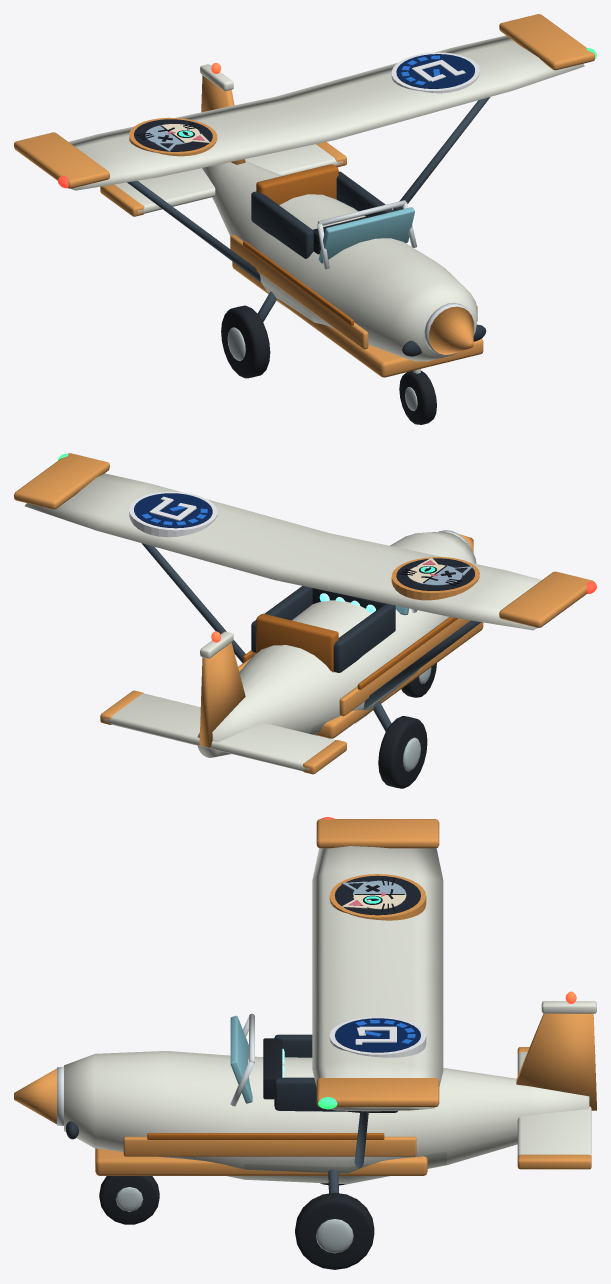
The model's file is avita_plane.glb.
The picture shows the model from 3 angles, top to bottom: view 1: azimuth 30°, elevation 25°; view 2: azimuth 150°, elevation 25°; view 3: azimuth 270°, elevation 25°; orthographic projection. The views are drawn at different scales.
Parts seen in each view (by area): view 1: HighWing, Fuselage, TailPlane, WingTip_1, WingTip_-1, BellyStripe, WindscreenGlass, MainTire_-1, CockpitCoaming_-1, SideLivery_-1, CockpitSeatBack, SpinnerCone (+12 smaller); view 2: HighWing, Fuselage, TailPlane, VerticalFin, WingTip_1, WingTip_-1, CockpitSeatBack, MainTire_-1, CockpitCoaming_-1, SideLivery_-1, Tech_Disc, BellyStripe (+12 smaller); view 3: Fuselage, HighWing, VerticalFin, SideLivery_1, BellyStripe, MainTire_1, WingTip_-1, WingTip_1, TailPlane, NoseTire, Tech_Disc, CockpitCoaming_1 (+11 smaller).
Part boxes in pixels (x1=…): HighWing: x1=69, y1=35, x2=584, y2=190; Fuselage: x1=202, y1=161, x2=477, y2=361; TailPlane: x1=114, y1=144, x2=342, y2=213; WingTip_1: x1=499, y1=14, x2=594, y2=70; WingTip_-1: x1=14, y1=132, x2=109, y2=188; BellyStripe: x1=232, y1=261, x2=483, y2=377; WindscreenGlass: x1=318, y1=207, x2=414, y2=263; MainTire_-1: x1=221, y1=305, x2=270, y2=378; CockpitCoaming_-1: x1=251, y1=191, x2=313, y2=258; SideLivery_-1: x1=230, y1=235, x2=368, y2=349; CockpitSeatBack: x1=256, y1=164, x2=338, y2=204; SpinnerCone: x1=429, y1=306, x2=473, y2=354; HighWing: x1=24, y1=473, x2=541, y2=630; Fuselage: x1=197, y1=531, x2=476, y2=757; TailPlane: x1=104, y1=693, x2=334, y2=771; VerticalFin: x1=199, y1=642, x2=245, y2=747; WingTip_1: x1=14, y1=453, x2=109, y2=509; WingTip_-1: x1=499, y1=571, x2=594, y2=627; CockpitSeatBack: x1=256, y1=613, x2=338, y2=672; MainTire_-1: x1=378, y1=716, x2=427, y2=788; CockpitCoaming_-1: x1=333, y1=603, x2=395, y2=672; SideLivery_-1: x1=339, y1=618, x2=470, y2=716; Tech_Disc: x1=134, y1=493, x2=212, y2=528; BellyStripe: x1=316, y1=622, x2=483, y2=738; Fuselage: x1=64, y1=1051, x2=589, y2=1184; HighWing: x1=312, y1=846, x2=443, y2=1111; VerticalFin: x1=516, y1=1013, x2=596, y2=1110; SideLivery_1: x1=123, y1=1136, x2=416, y2=1156; BellyStripe: x1=95, y1=1148, x2=427, y2=1175; MainTire_1: x1=295, y1=1192, x2=374, y2=1269; WingTip_-1: x1=316, y1=819, x2=439, y2=848; WingTip_1: x1=316, y1=1078, x2=439, y2=1107; TailPlane: x1=517, y1=1052, x2=591, y2=1156; NoseTire: x1=99, y1=1176, x2=159, y2=1224; Tech_Disc: x1=335, y1=1018, x2=420, y2=1052; CockpitCoaming_1: x1=274, y1=1077, x2=397, y2=1112.
Bounding box in the file's own units: 7.84 × 3.43 × 6.76.
